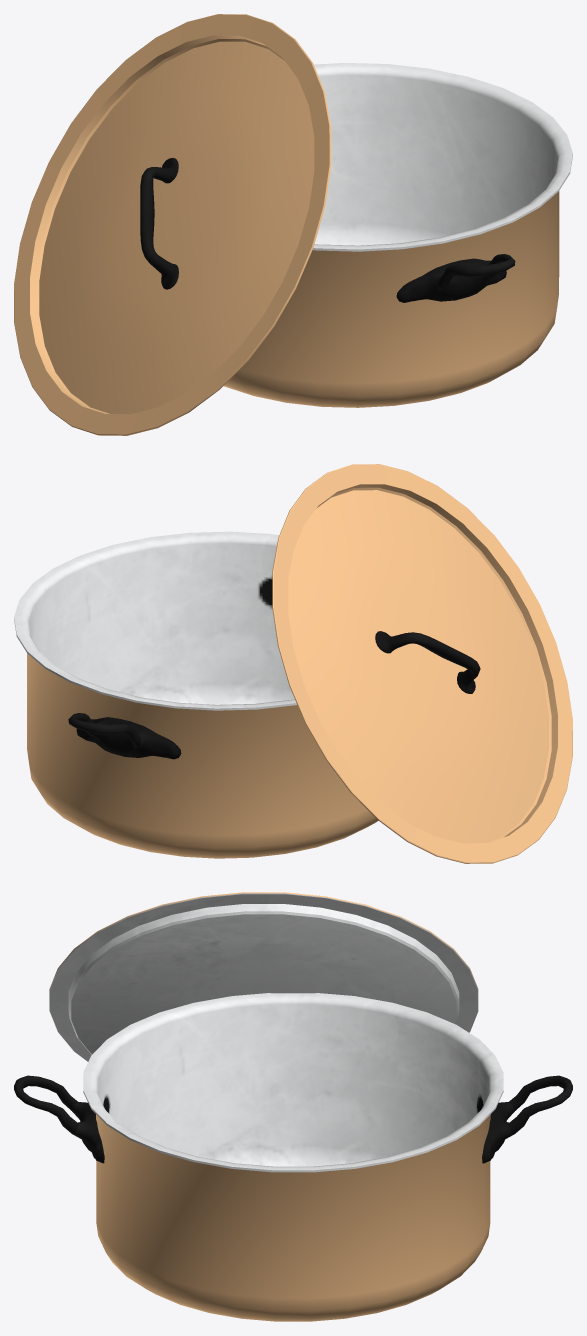
The model's file is Prop_Kitchen_OpenPan_x2.fbx.
3 views of the same model, one above another, from view 1: azimuth 30°, elevation 25°; view 2: azimuth 150°, elevation 25°; view 3: azimuth 270°, elevation 25° (orthographic). The views are drawn at different scales.
Parts seen in each view (by area): view 1: Prop_Kitchen_OpenPan_x2; view 2: Prop_Kitchen_OpenPan_x2; view 3: Prop_Kitchen_OpenPan_x2.
Part boxes in pixels (x1=…): Prop_Kitchen_OpenPan_x2: x1=14, y1=14, x2=572, y2=435; Prop_Kitchen_OpenPan_x2: x1=14, y1=464, x2=572, y2=863; Prop_Kitchen_OpenPan_x2: x1=14, y1=892, x2=572, y2=1321.
Bounding box in the file's own units: 23.77 × 15.25 × 24.22.
